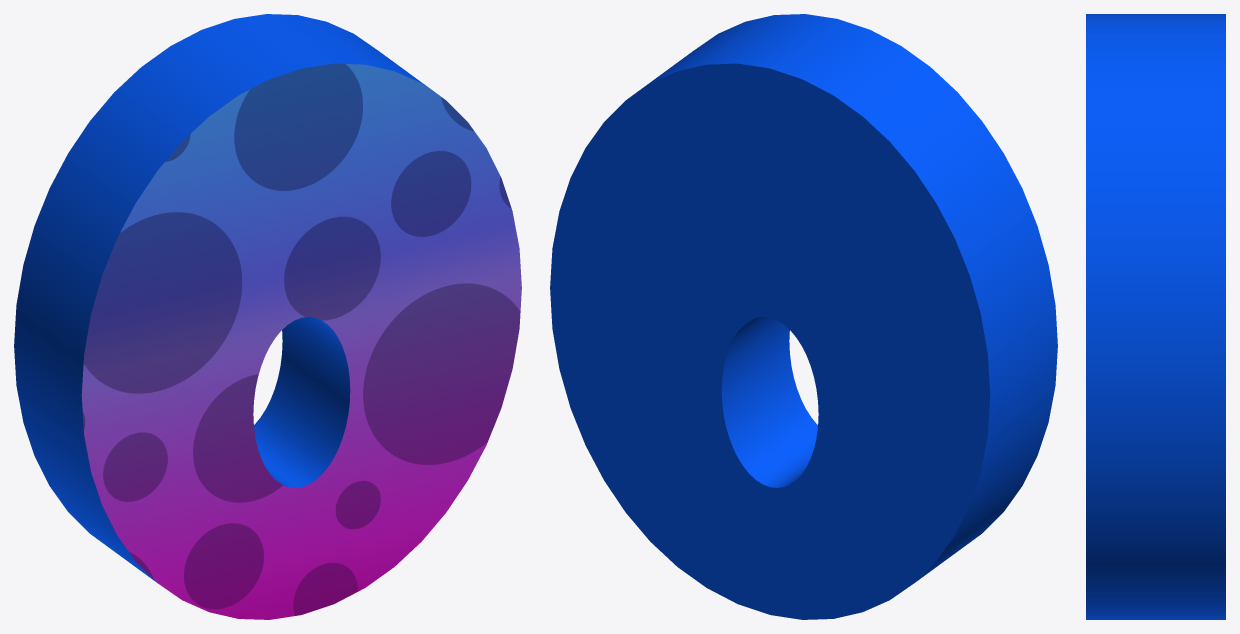
3 renders of one model, left to right at view 1: azimuth 30°, elevation 25°; view 2: azimuth 150°, elevation 25°; view 3: azimuth 270°, elevation 25°, orthographic. The views are drawn at different scales.
Parts seen in each view (by area): view 1: O; view 2: O; view 3: O.
Part boxes in pixels (box(x1,y1,x2,y2)): O: box(14, 14, 521, 619); O: box(550, 14, 1057, 619); O: box(1086, 14, 1225, 619).
Size of the model in its own units: 75.07 by 89.06 by 20.
2 materials, 1 textured.
